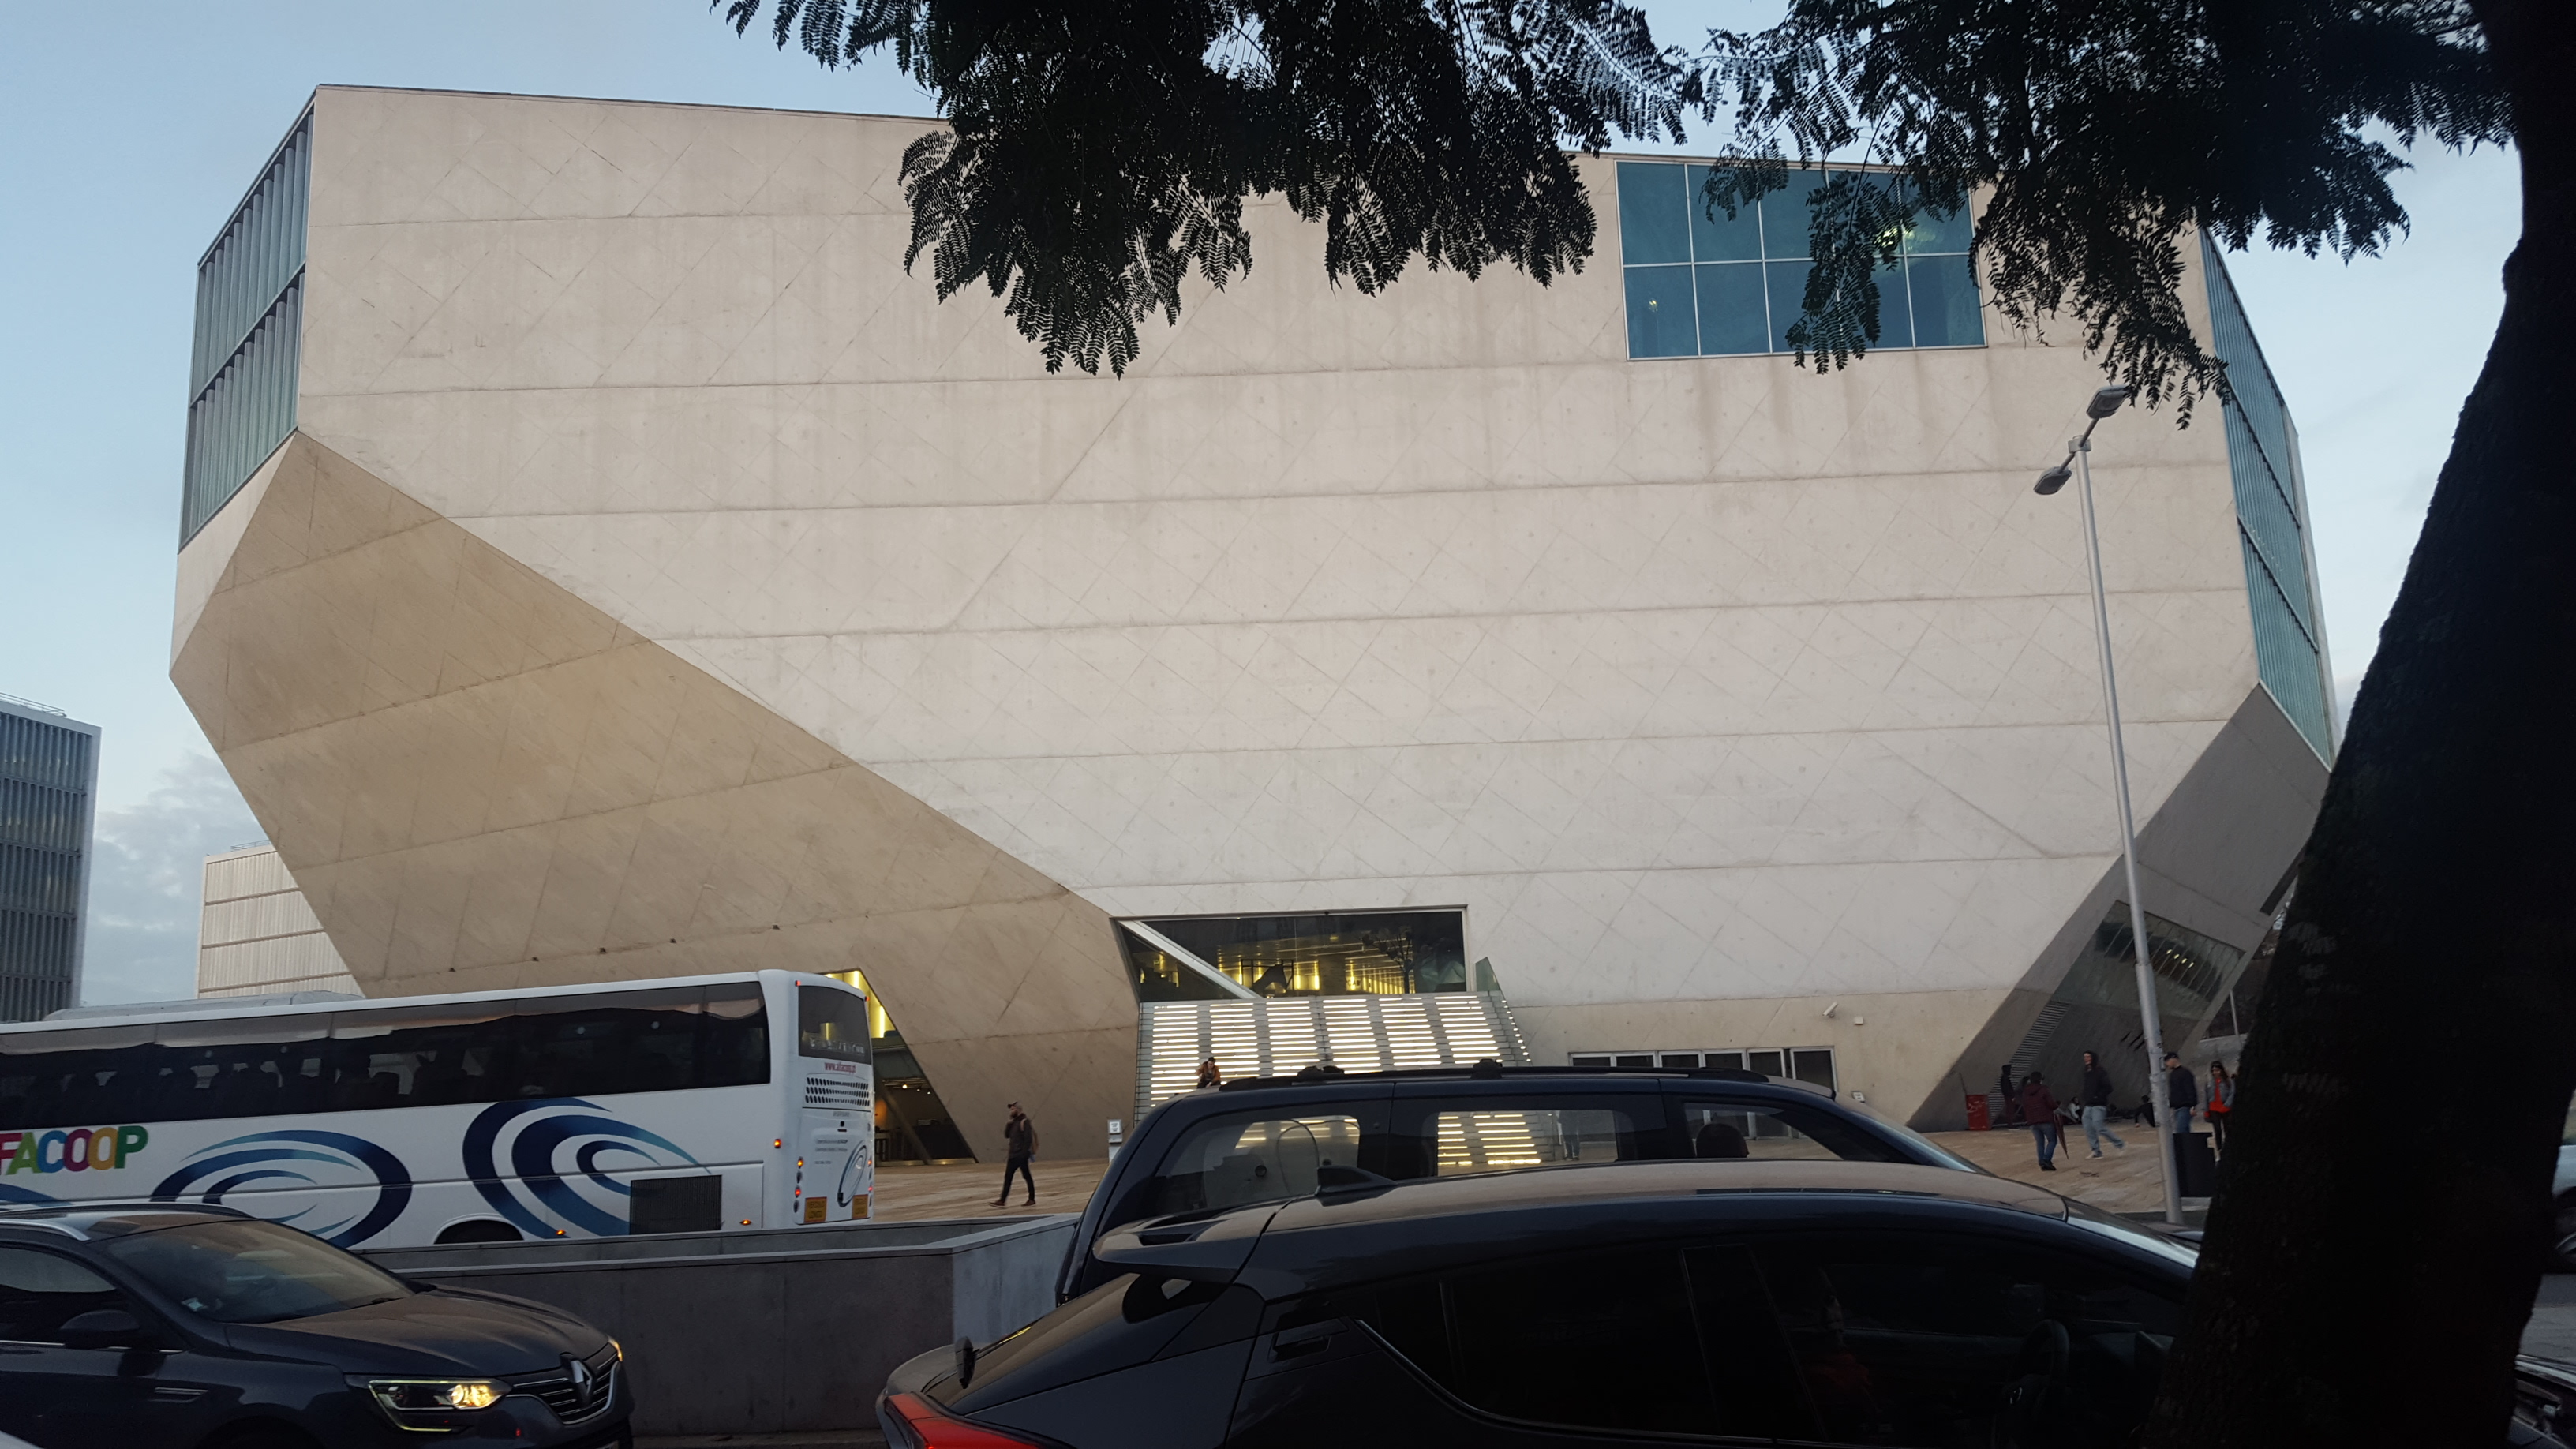musica: (173, 99, 2367, 1125)
